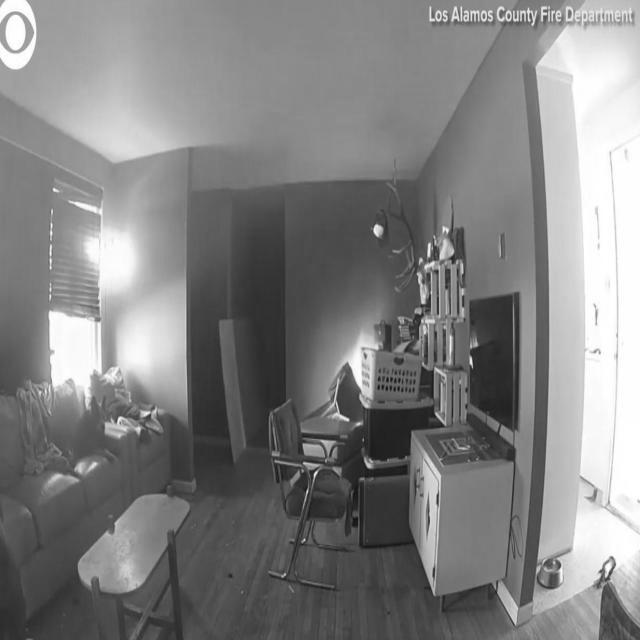smoke: (346, 330, 379, 392)
